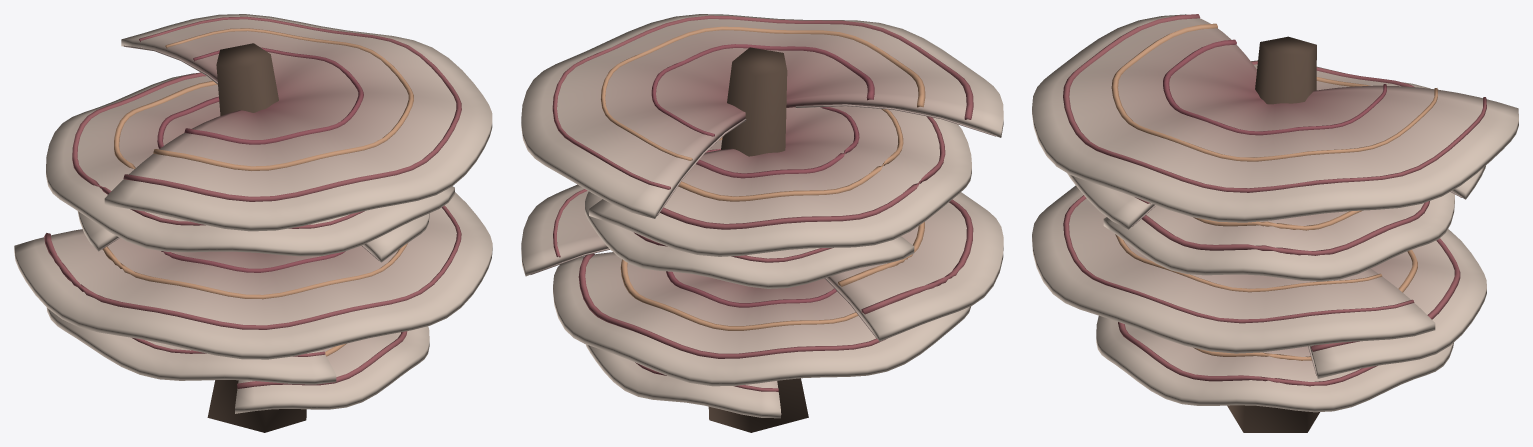
The model's file is enchanted-bracket.glb.
The picture shows the model from 3 angles, left to right: view 1: azimuth 30°, elevation 25°; view 2: azimuth 150°, elevation 25°; view 3: azimuth 270°, elevation 25°; orthographic projection.
Parts seen in each view (by area): view 1: enchanted-bracket-sculpted-details; view 2: enchanted-bracket-sculpted-details; view 3: enchanted-bracket-sculpted-details.
Part boxes in pixels (bbox=[...]): enchanted-bracket-sculpted-details: bbox=[14, 14, 492, 432]; enchanted-bracket-sculpted-details: bbox=[521, 14, 1003, 432]; enchanted-bracket-sculpted-details: bbox=[1032, 14, 1518, 432].
Size of the model in its own units: 1.2 by 1 by 1.2.
